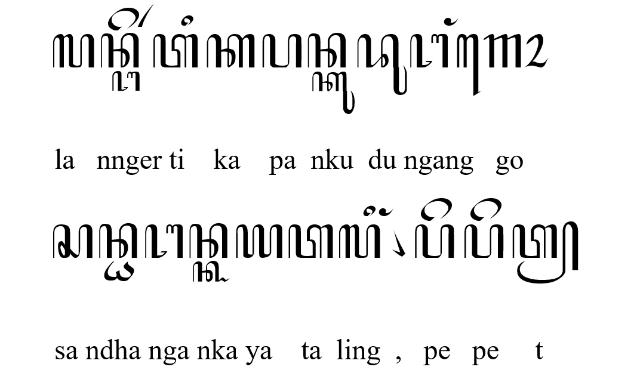-t: (512, 221, 578, 284)
_dh: (104, 260, 134, 282)
_k: (192, 261, 230, 283)
_r1: (138, 3, 156, 27)
du: (357, 33, 408, 95)
e: (470, 196, 502, 221), (108, 7, 138, 31), (422, 198, 452, 222)
e1: (456, 32, 480, 96)
g: (483, 33, 521, 68)
i: (362, 205, 376, 217), (180, 15, 193, 27)
k: (206, 32, 256, 70)
kom: (391, 230, 405, 256)
ku: (311, 72, 355, 114)
l: (52, 33, 96, 69)
n: (188, 222, 228, 260), (100, 33, 140, 69), (98, 223, 138, 259), (308, 33, 347, 69)
ng: (378, 207, 394, 216), (444, 16, 458, 25)
nga: (409, 33, 449, 68), (144, 224, 183, 258), (111, 70, 141, 92)
o: (524, 33, 548, 68)
p: (414, 223, 456, 259), (463, 224, 505, 260), (262, 33, 302, 69)
s: (52, 224, 92, 258)
t: (152, 33, 198, 68), (338, 223, 382, 259), (288, 224, 334, 258)
y: (235, 224, 283, 258)
